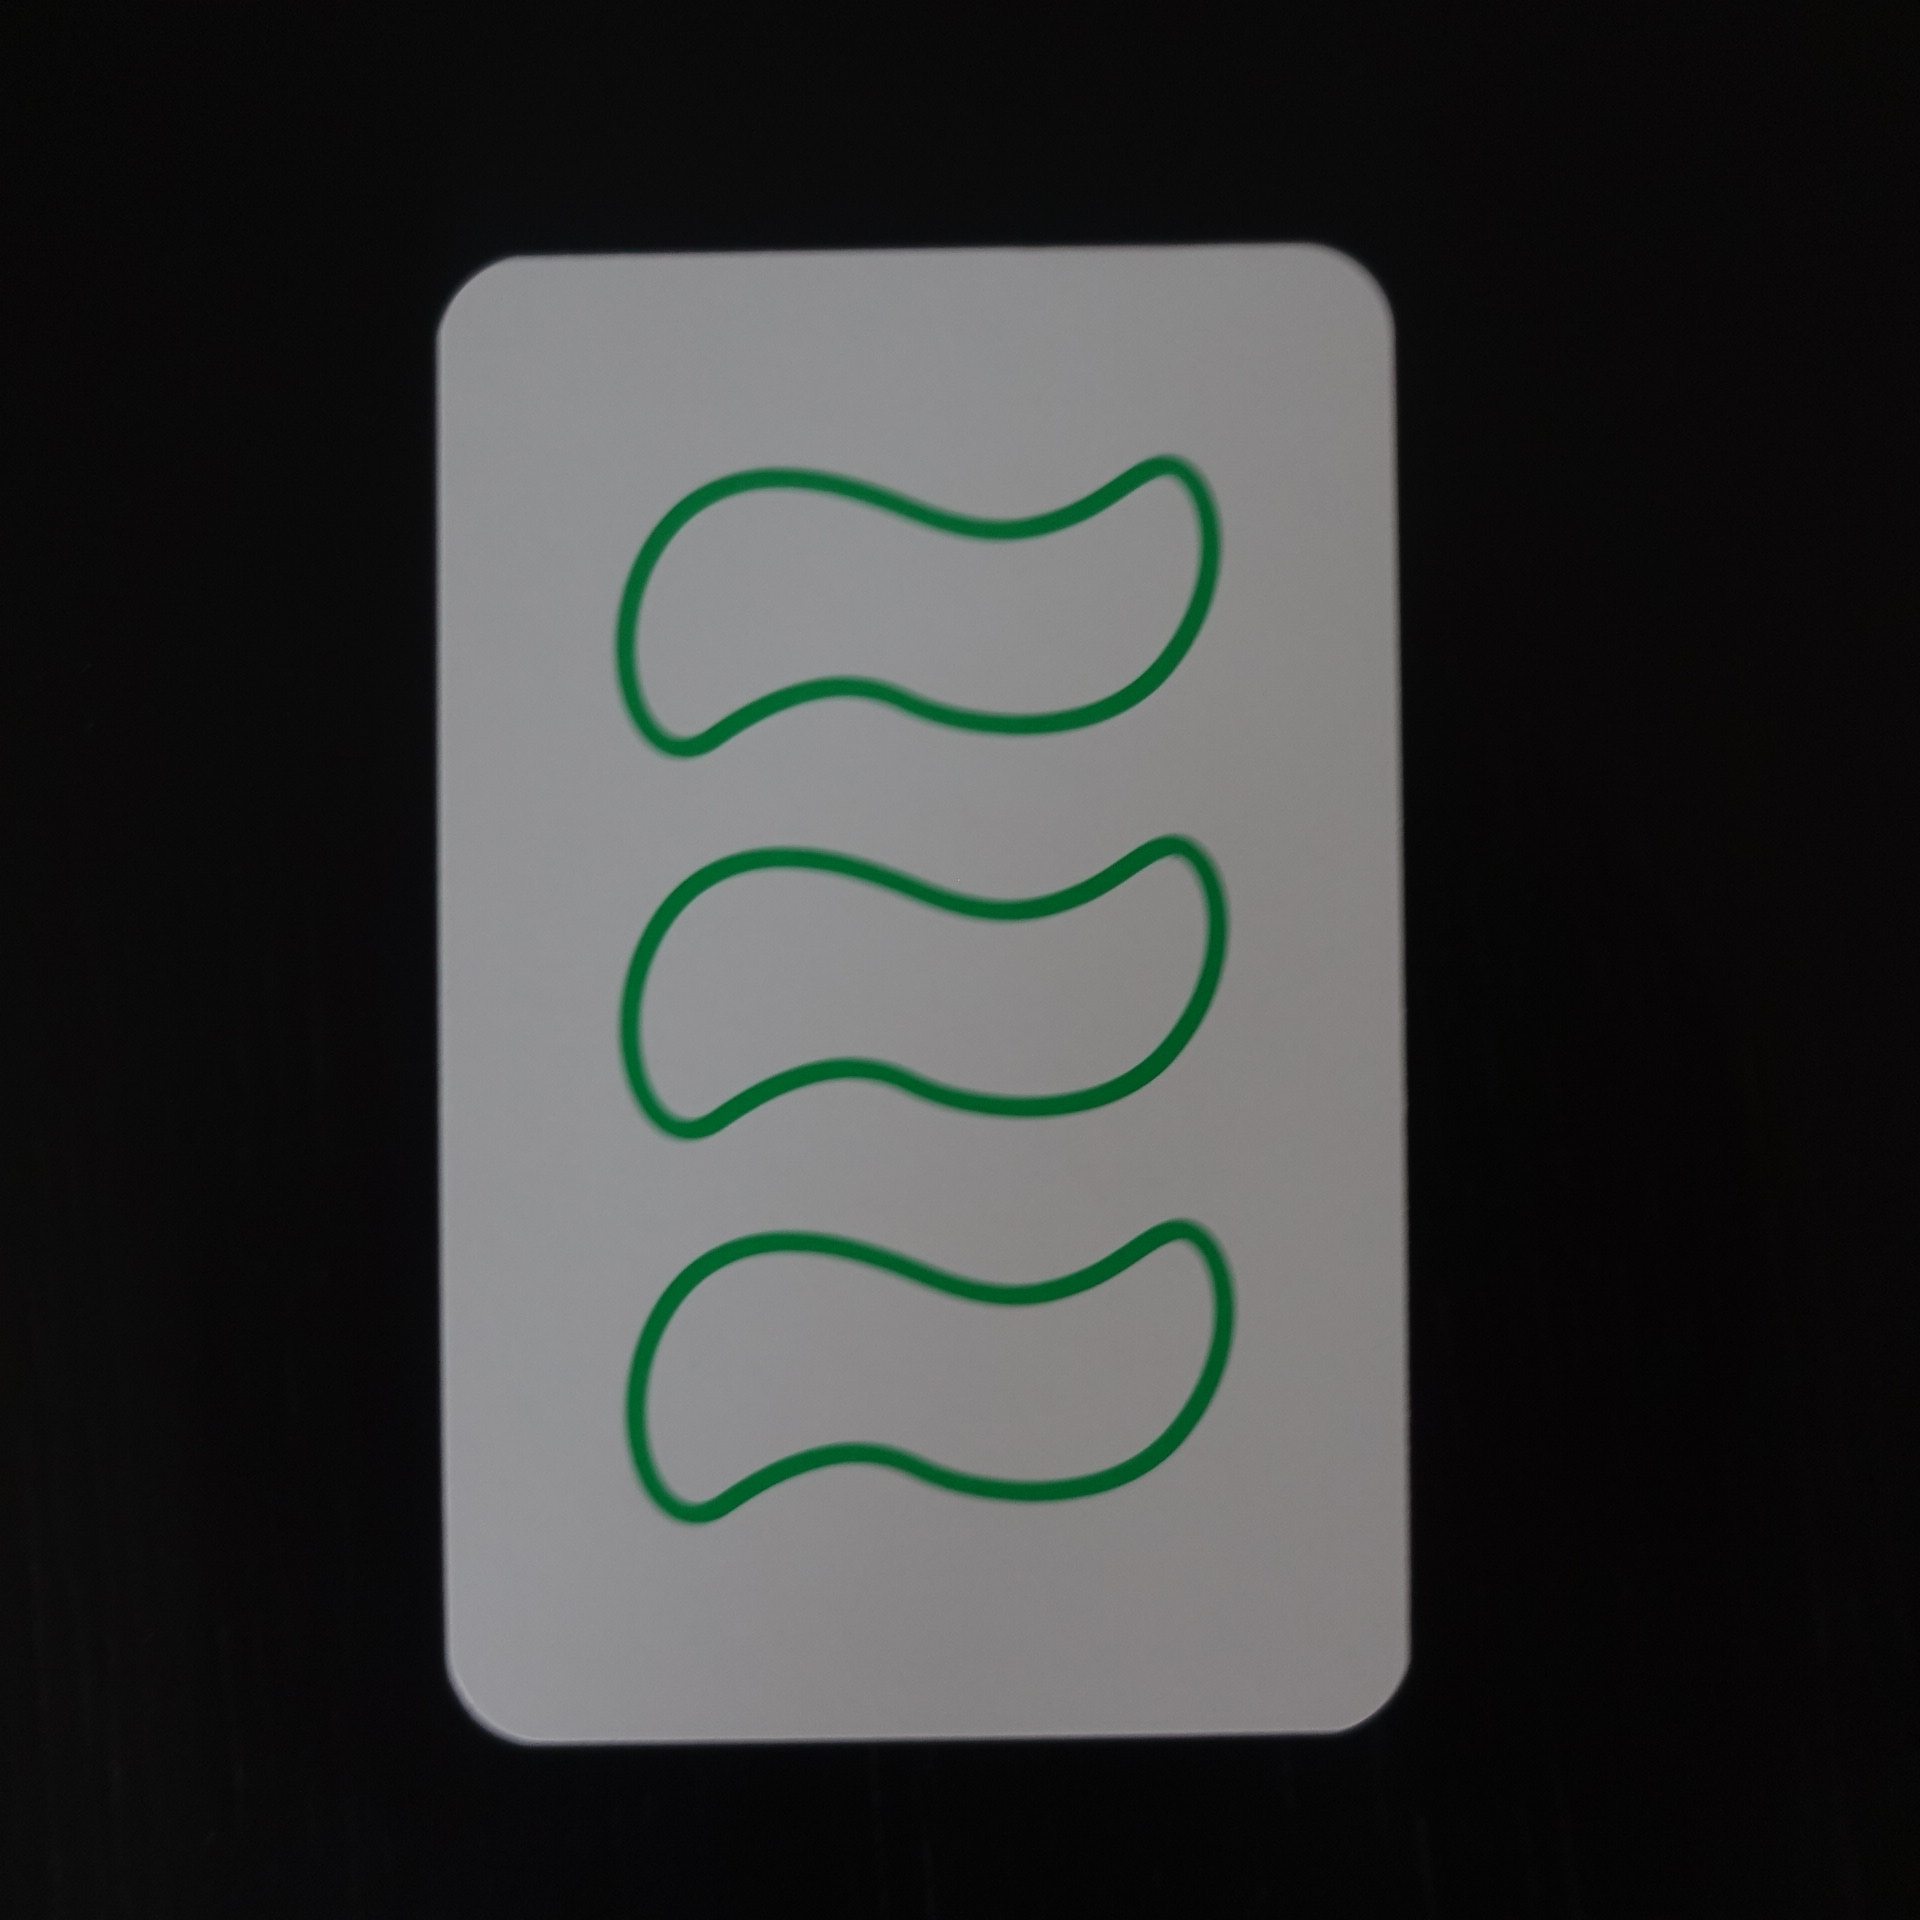c-3-u-s-g: (387, 211, 1449, 1772)
